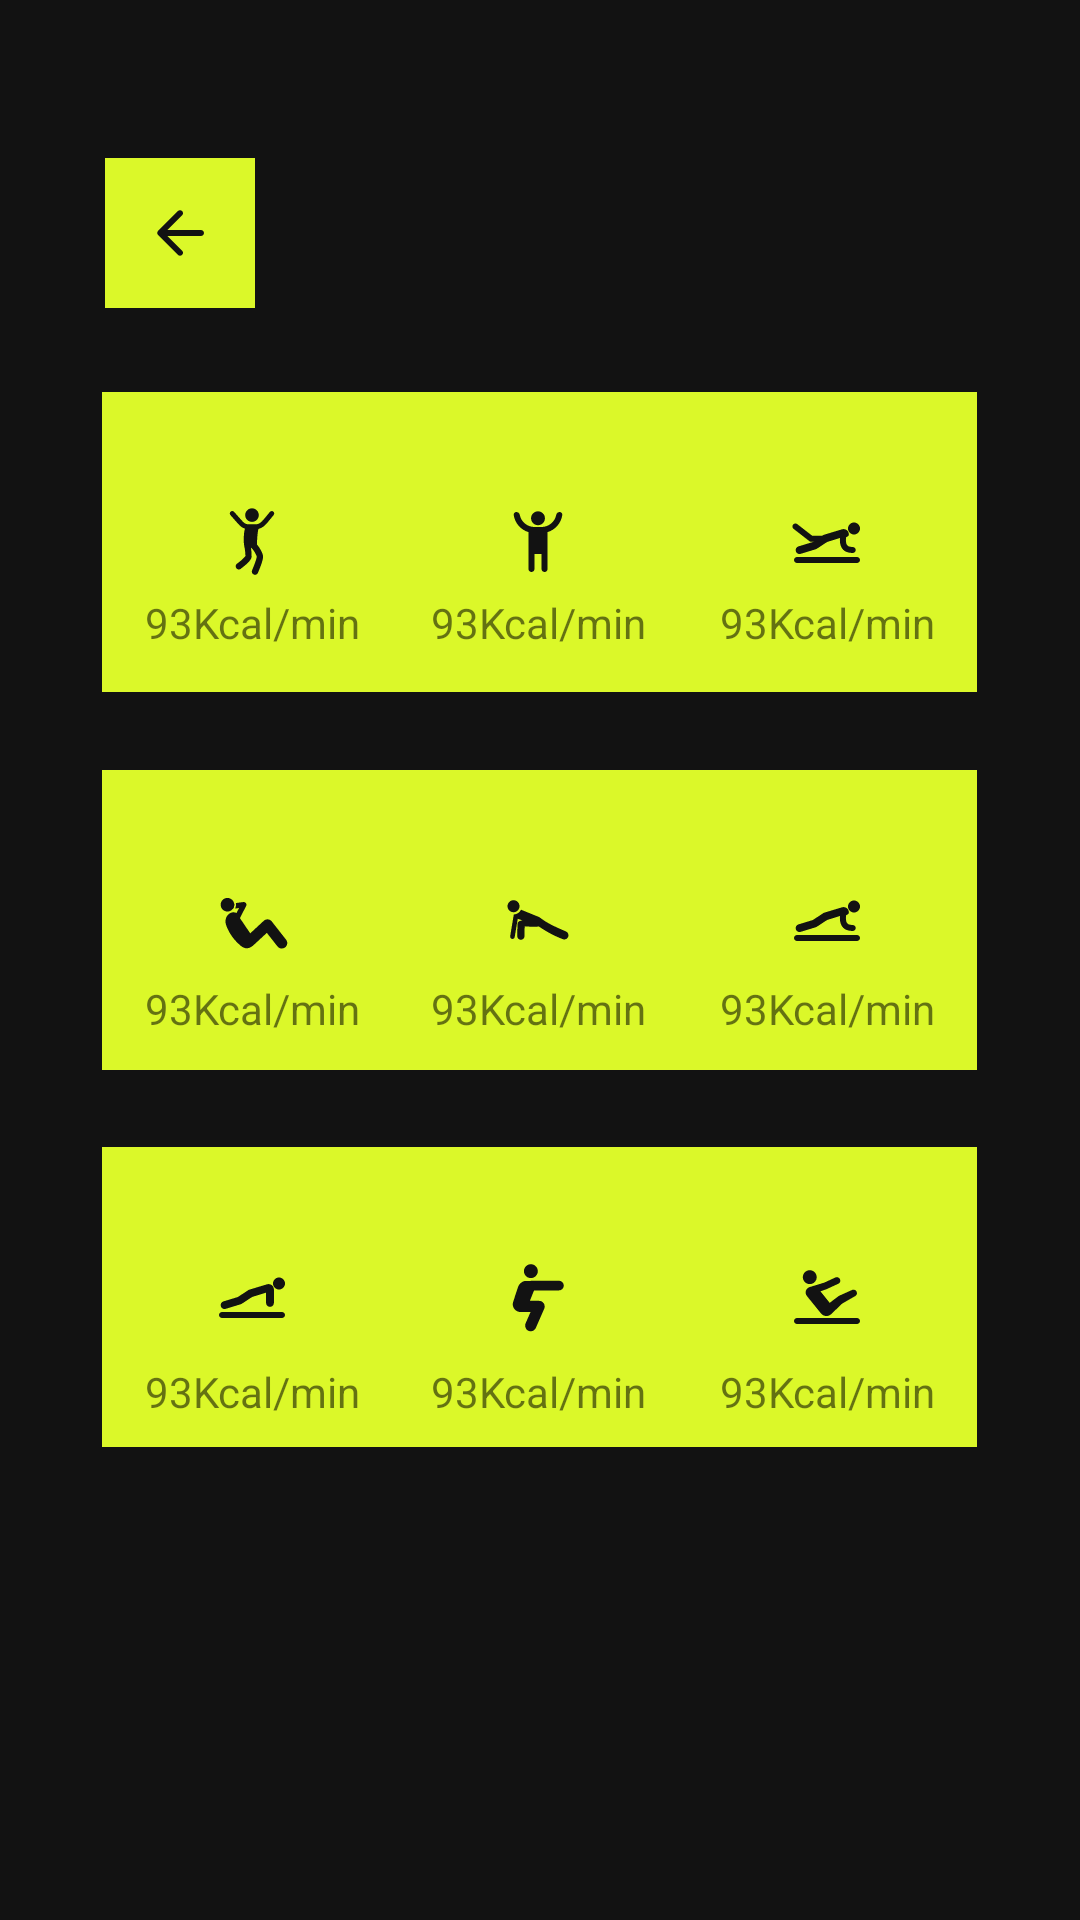

Icons on this 1080 × 1920 Android screen, each with the point to tap as (x,y):
arrow previous: (180,233)
